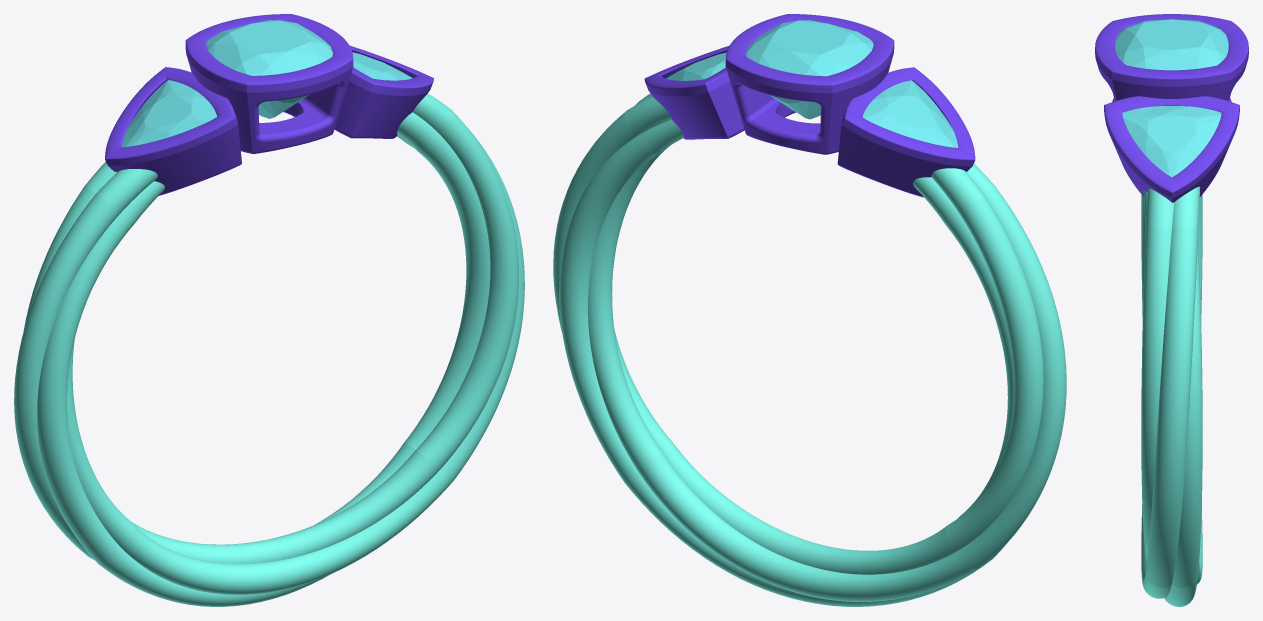
The picture shows the model from 3 angles, left to right: view 1: azimuth 30°, elevation 25°; view 2: azimuth 150°, elevation 25°; view 3: azimuth 270°, elevation 25°; orthographic projection. The views are drawn at different scales.
Visible parts, largest first — view 1: für render 1.3dm, BEZEL GEM, CUSHION SQUARE, TRILLION CURVED (×2); view 2: für render 1.3dm, BEZEL GEM, CUSHION SQUARE, TRILLION CURVED (×2); view 3: für render 1.3dm, BEZEL GEM, CUSHION SQUARE, TRILLION CURVED.
Boxes of the visible parts, box(x1,y1,x2,y2) form: für render 1.3dm: box(14, 93, 524, 606); BEZEL GEM: box(105, 14, 433, 195); CUSHION SQUARE: box(206, 20, 332, 118); TRILLION CURVED (×2): box(122, 52, 412, 147); für render 1.3dm: box(553, 93, 1066, 606); BEZEL GEM: box(644, 14, 975, 197); CUSHION SQUARE: box(746, 20, 873, 119); TRILLION CURVED (×2): box(666, 52, 958, 147); für render 1.3dm: box(1141, 186, 1202, 606); BEZEL GEM: box(1095, 14, 1248, 202); CUSHION SQUARE: box(1115, 19, 1228, 70); TRILLION CURVED: box(1122, 106, 1221, 176).
Bounding box in the file's own units: 2.7 × 2.86 × 0.7267.
